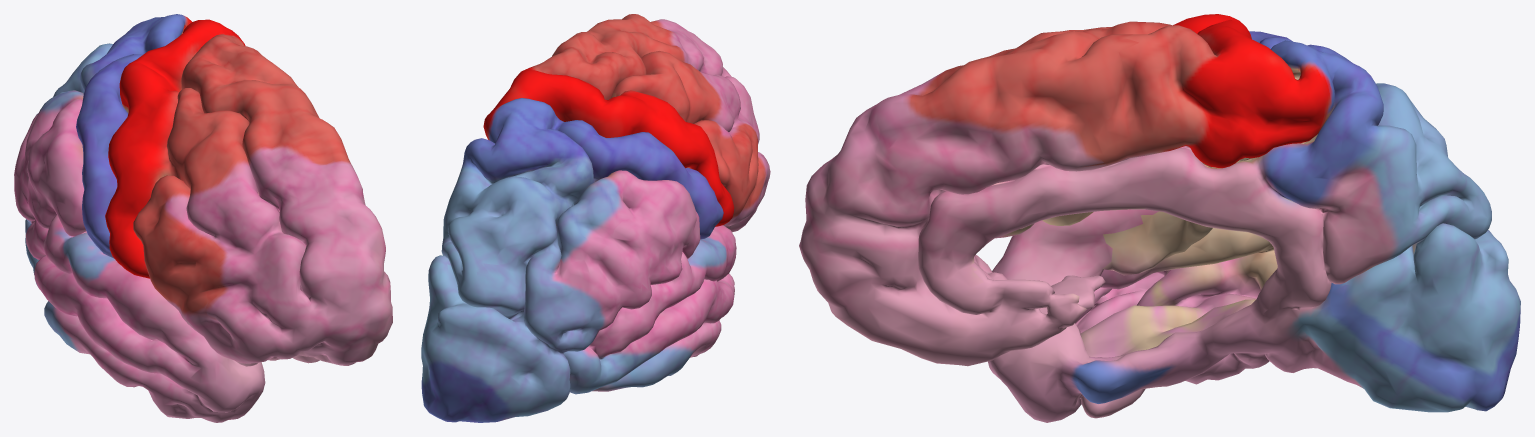
Rendered from Nervous.Cerebrum.Cerebrum_R.obj.
3 views of the same model, side by side, from view 1: azimuth 30°, elevation 25°; view 2: azimuth 150°, elevation 25°; view 3: azimuth 270°, elevation 25° (orthographic). The views are drawn at different scales.
Parts seen in each view (by area): view 1: Nervous:Cerebrum:Cerebrum_R_Cerebrum_exterior.001; view 2: Nervous:Cerebrum:Cerebrum_R_Cerebrum_exterior.001; view 3: Nervous:Cerebrum:Cerebrum_R_Cerebrum_exterior.001.
Boxes of the visible parts, box(x1,y1,x2,y2) form: Nervous:Cerebrum:Cerebrum_R_Cerebrum_exterior.001: box(14, 14, 392, 422); Nervous:Cerebrum:Cerebrum_R_Cerebrum_exterior.001: box(421, 14, 770, 422); Nervous:Cerebrum:Cerebrum_R_Cerebrum_exterior.001: box(799, 14, 1520, 422).
Bounding box in the file's own units: 0.3403 × 0.5432 × 0.8483.
